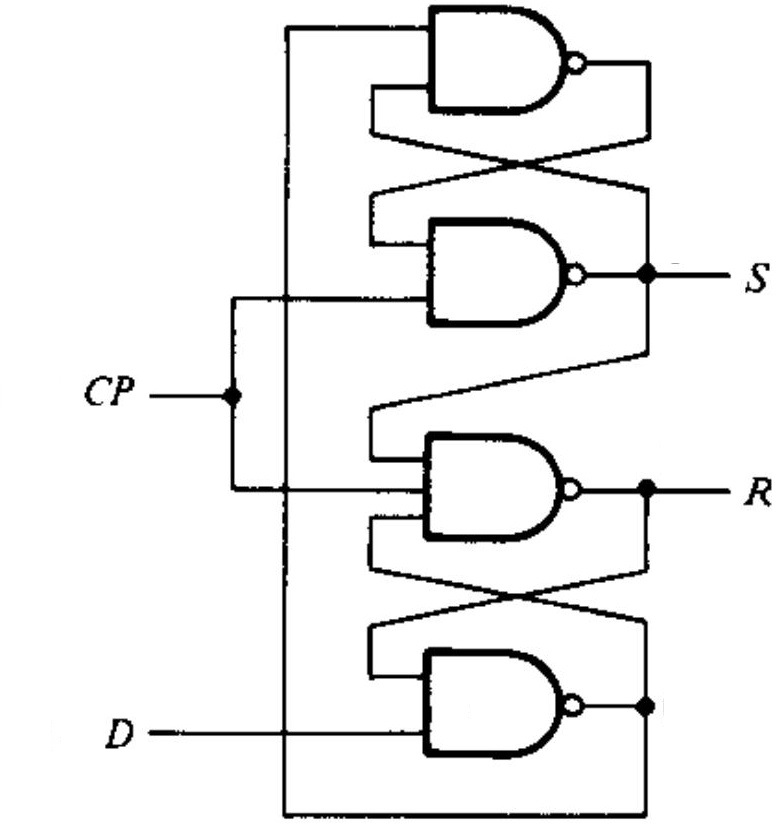and: (409, 641, 594, 765), (415, 210, 594, 334), (411, 423, 588, 547), (417, 1, 594, 118)
